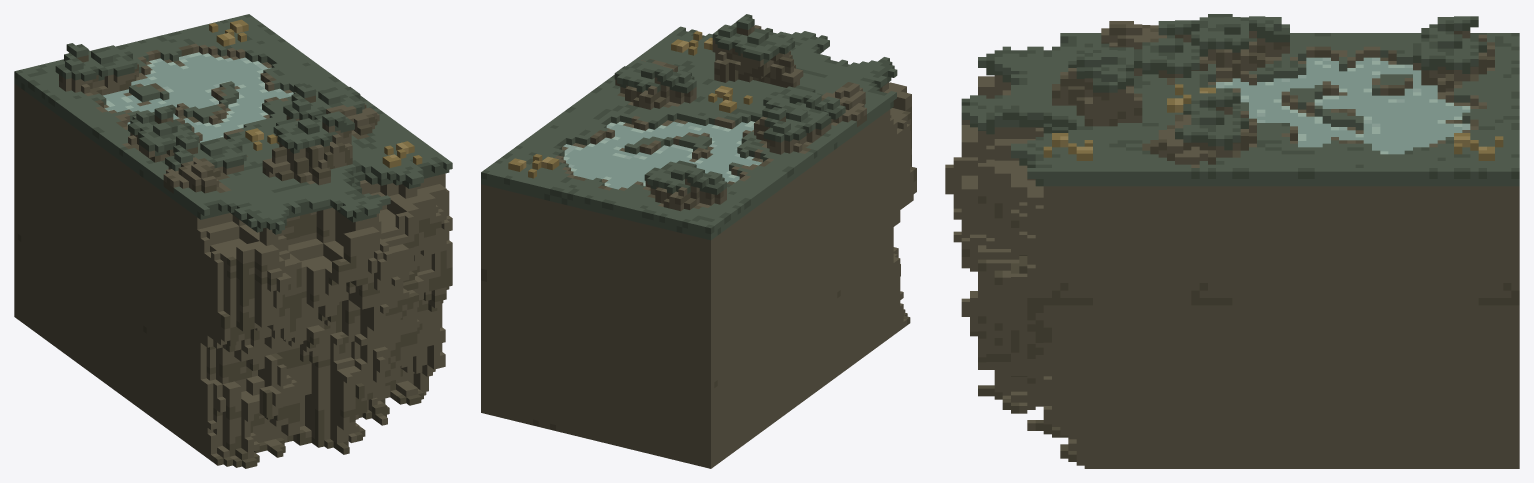
The model's file is mountain_6.obj.
3 views of the same model, side by side, from view 1: azimuth 30°, elevation 25°; view 2: azimuth 150°, elevation 25°; view 3: azimuth 270°, elevation 25° (orthographic). The views are drawn at different scales.
Bounding box in the file's own units: 4 × 4.8 × 7.
1 material, 1 textured.
